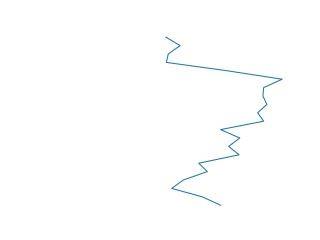floodPlain: (163, 36, 283, 208)
